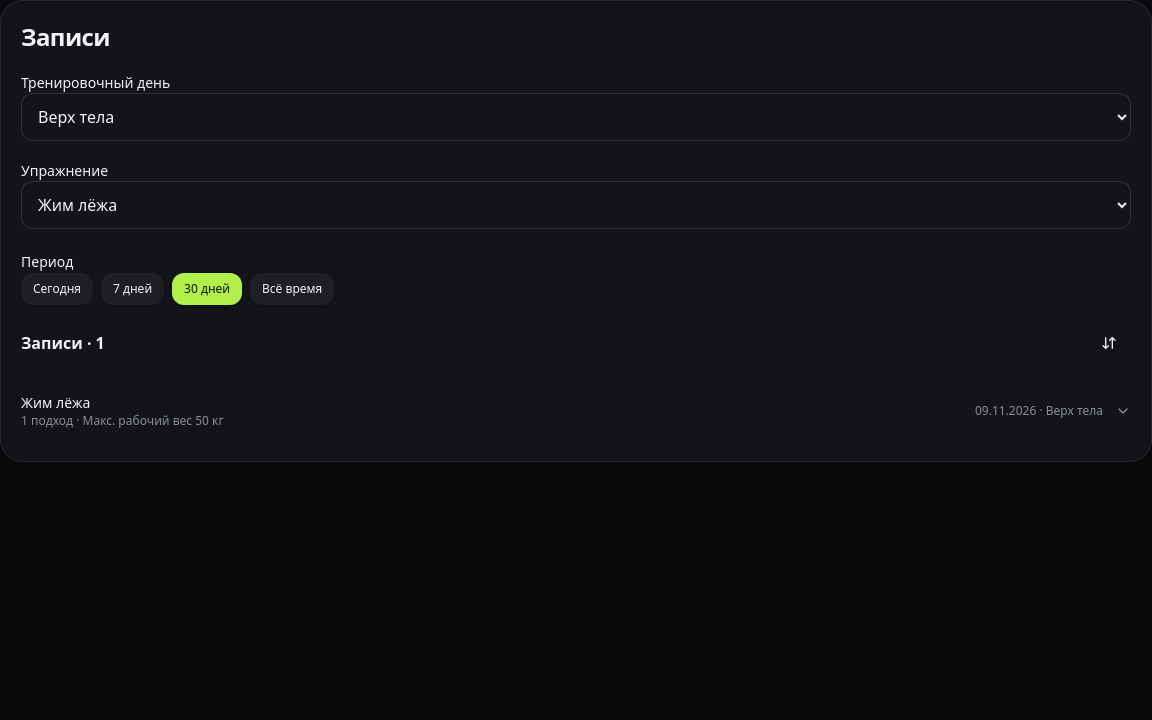
Scenario: keeps the edit and input when the RPC reports that the set was deleted
The width and height of the screenshot is (1152, 720).
Click the button that starts with "Жим лёжа". click: (56, 402)
box: top-left (21, 385), bottom-right (1131, 437)
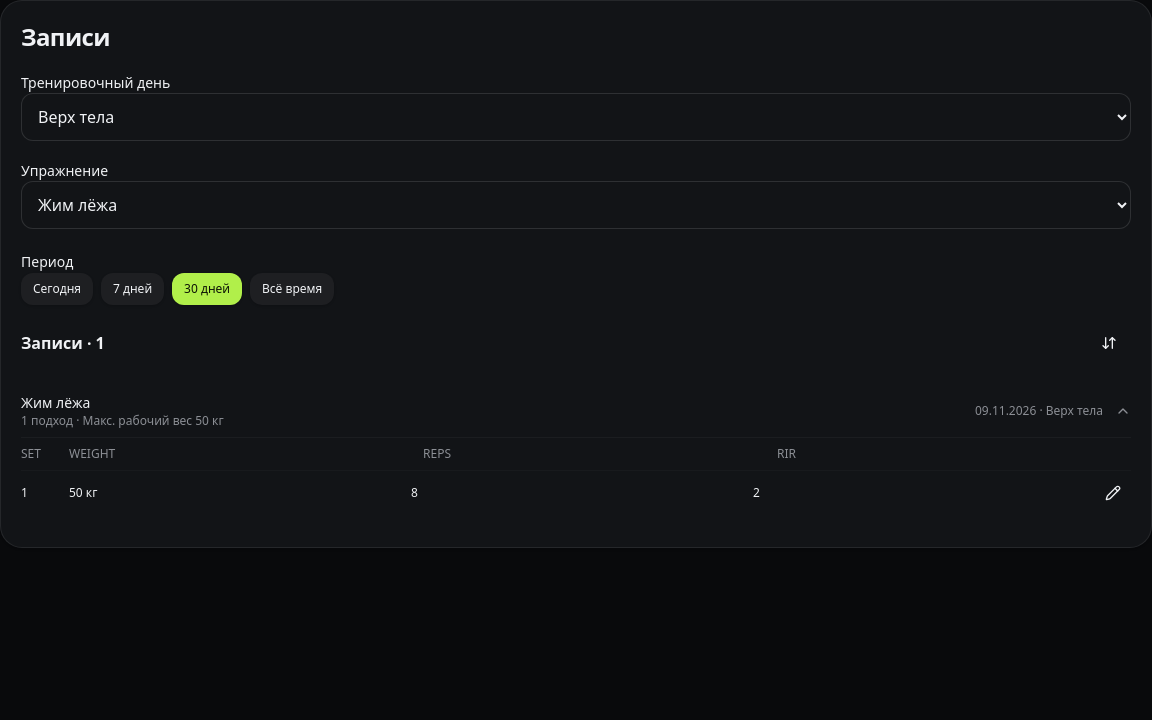
Click the button named "Изменить подход 1". click: (1113, 493)
box: top-left (1095, 475), bottom-right (1131, 511)
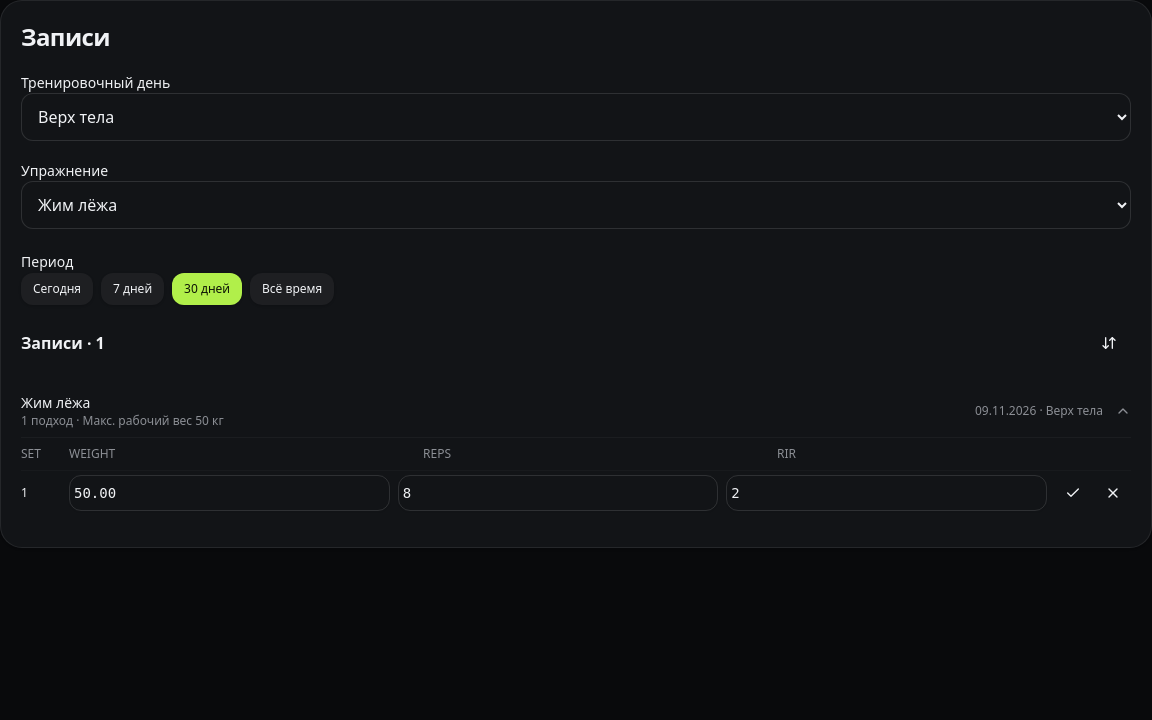
Replace the text in the field named "Вес подхода 1" with "51.5". click: (229, 493)
box: top-left (69, 475), bottom-right (390, 511)
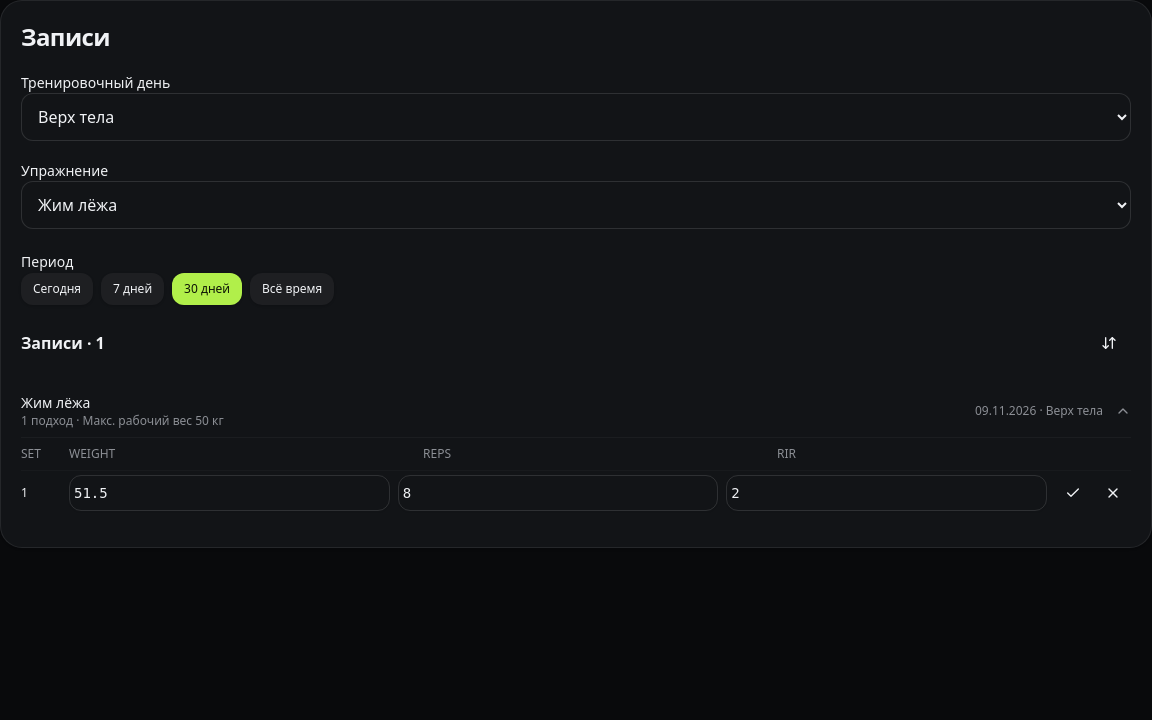
Click the button named "Сохранить подход 1". click: (1073, 493)
box: top-left (1055, 475), bottom-right (1091, 511)
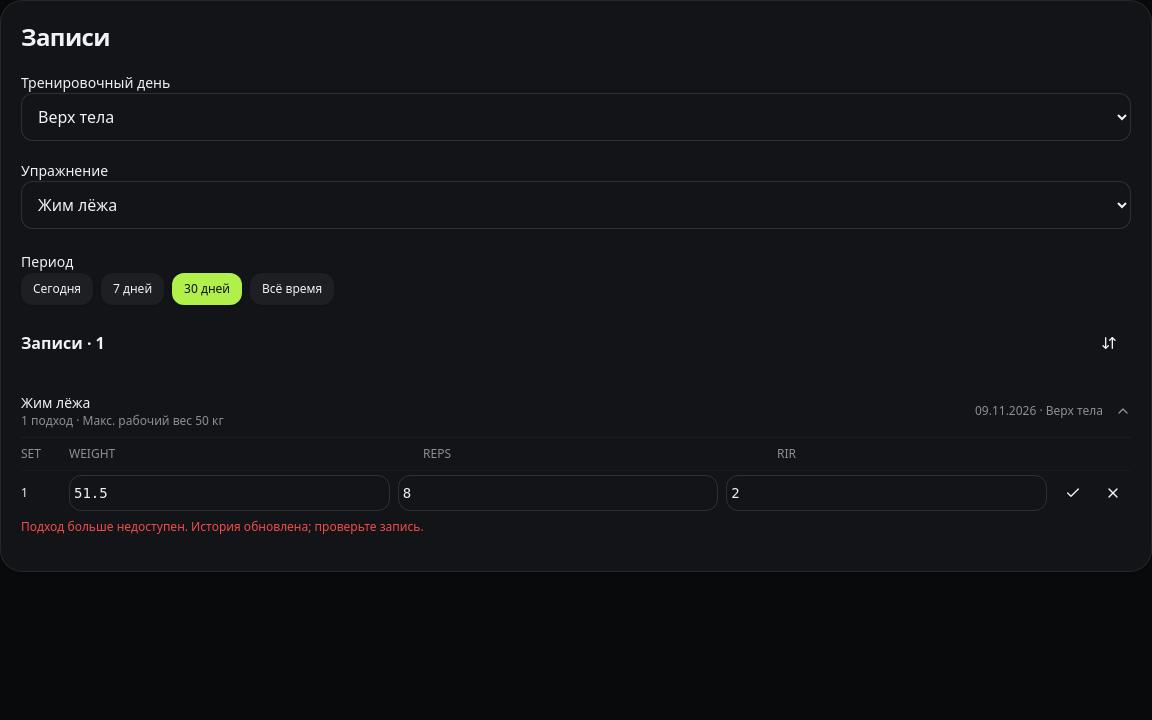
expect the text "Подход больше недоступен. История обновлена; проверьте запись." is shown: met, box top-left (21, 518), bottom-right (424, 535)
